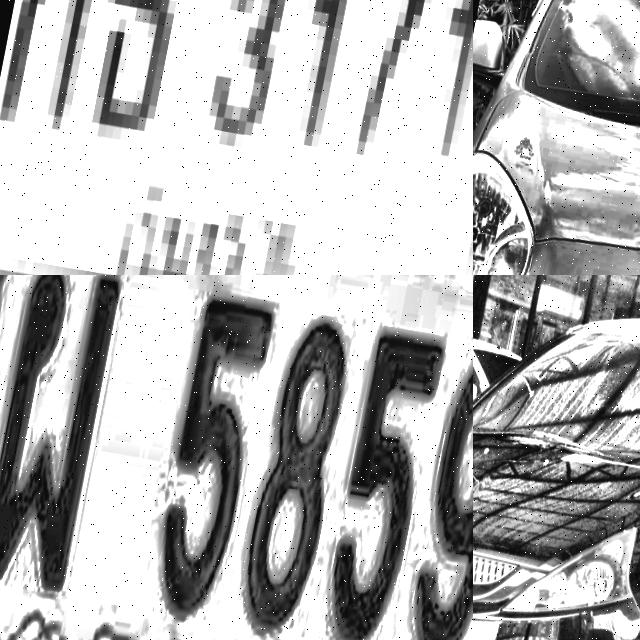license-plate: (0, 275, 473, 640), (0, 0, 473, 275)
